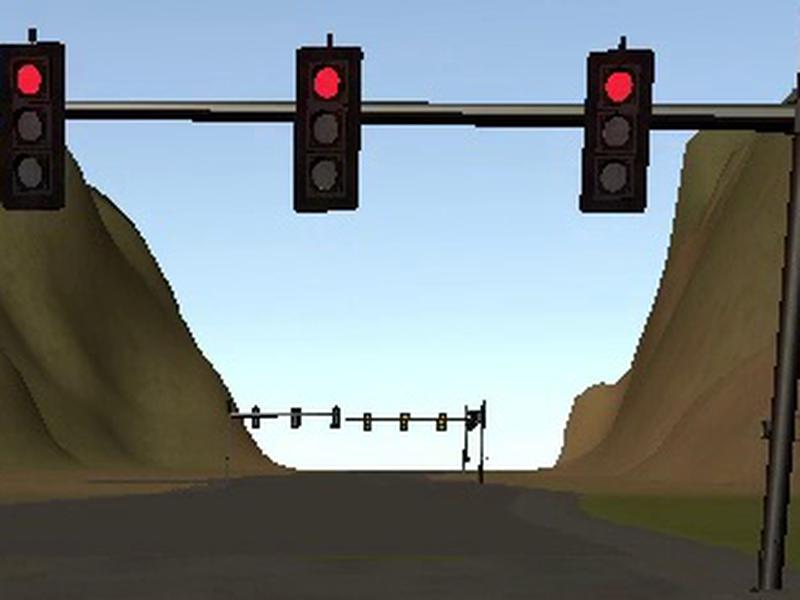Red: (579, 49, 655, 214), (291, 45, 364, 212), (1, 40, 64, 211)
